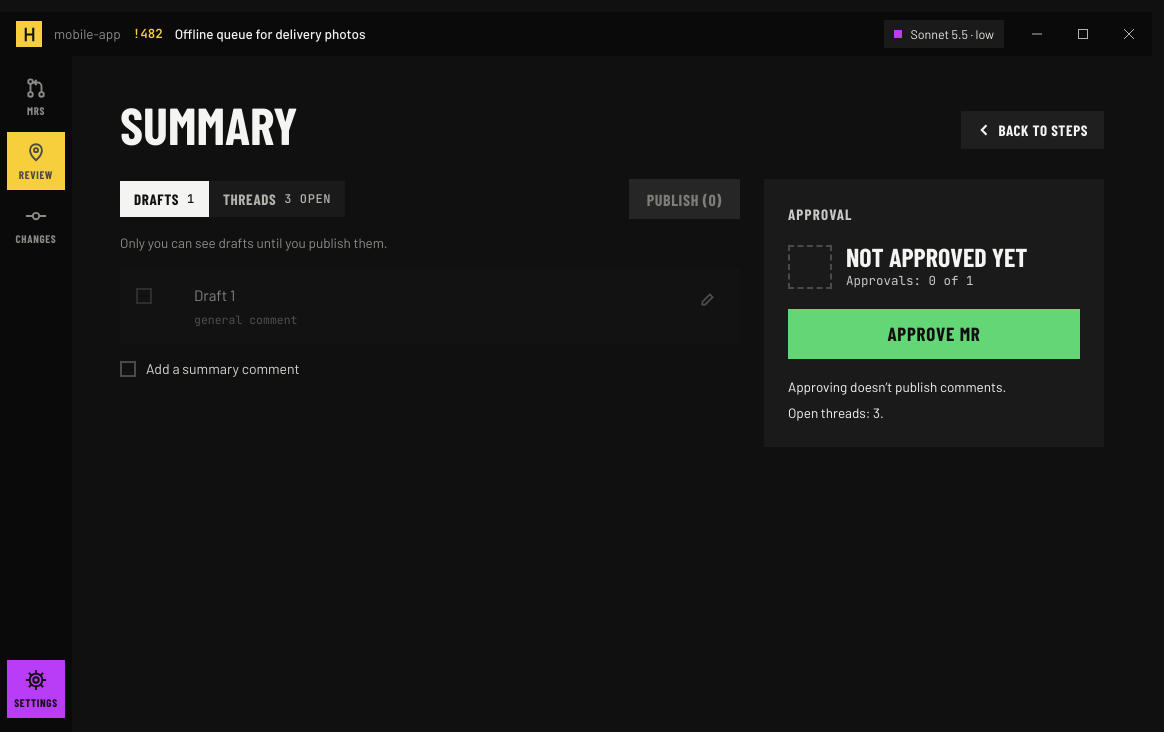
Test: S-05 Approval tile notes (F-14.3) › F-14.3 an unticked draft still counts as waiting
This screenshot has width=1164, height=732.
Check: the element named "Comments" is shown, box [120,181,345,217]
Click the button "Approve MR".
click(934, 334)  # box [788,309,1080,359]
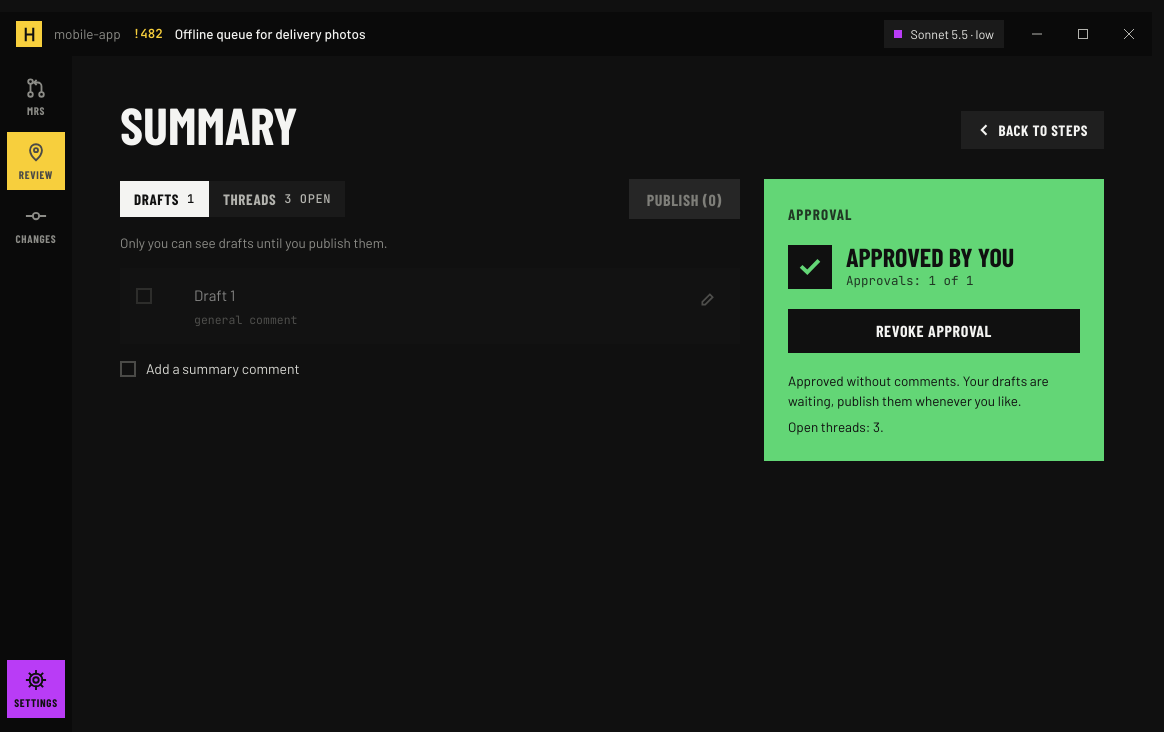
Check: the text "Approved by you" is shown, box [846,244,1014,270]
Check: the text "Approved without comments. Your drafts are waiting, publish them whenever you like." is shown, box [788,372,1049,409]
